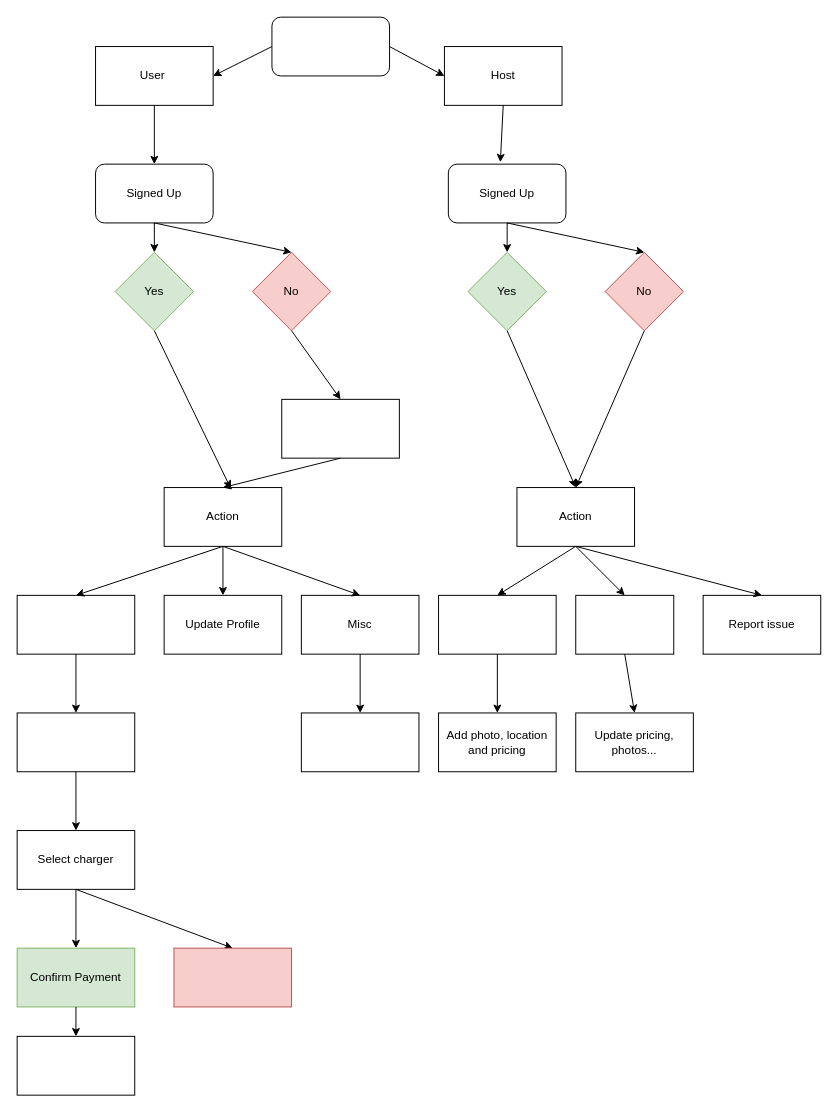
This 838x1112 diagram has some shape labels left out. The shapes that lost their labels are listed below. From the top down, each one's centre as x and y in pixels, then its label:
(x=330, y=46): Journey
(x=340, y=428): Register
(x=75, y=624): Require Charger
(x=497, y=624): New Charger
(x=624, y=624): Update Charger
(x=75, y=742): Search for charger
(x=359, y=742): Check history, payment history
(x=232, y=977): Cancel booking
(x=75, y=1065): Submit PAYNOW screenshot
